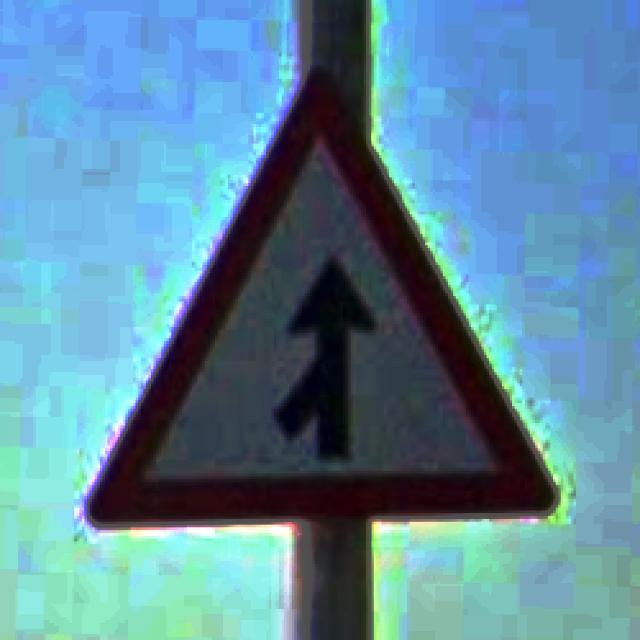leftmerge: (85, 62, 558, 527)
